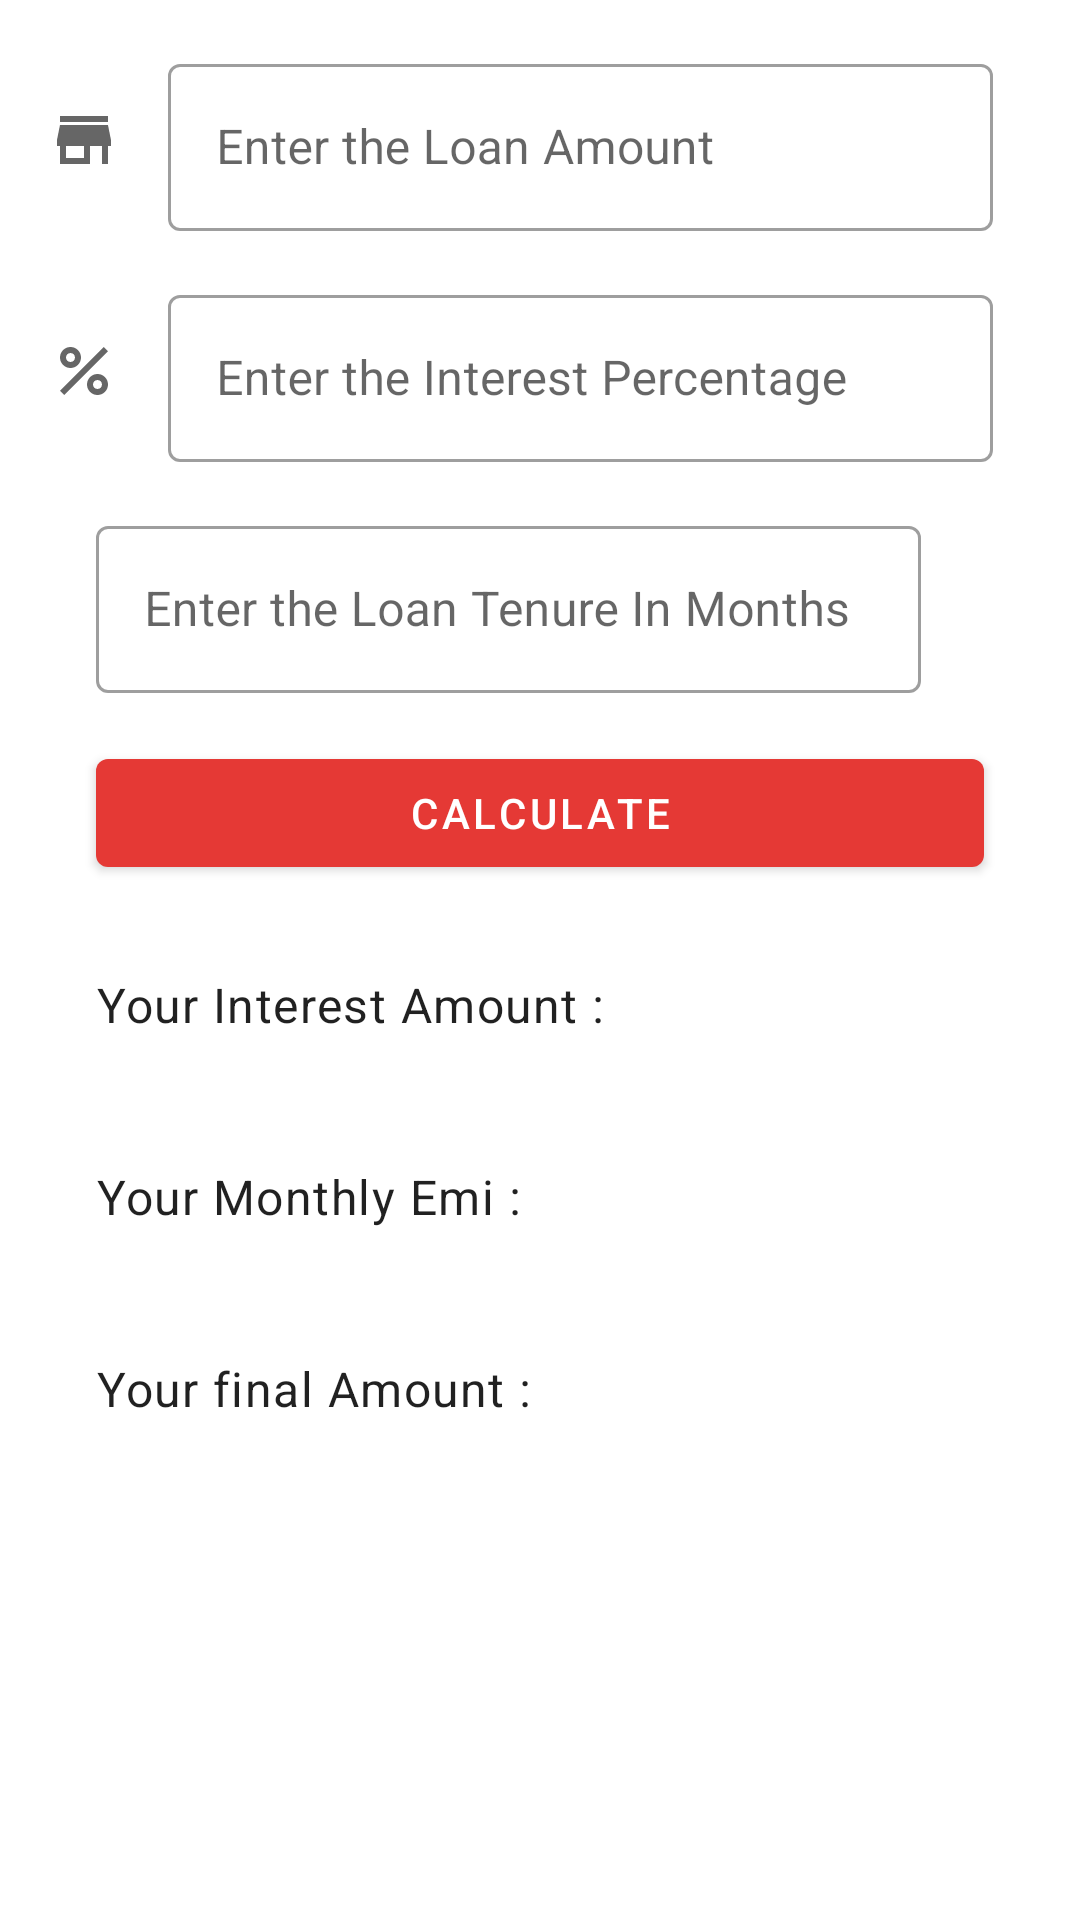

Named icons in this screenshot (1080*1920) and their bounding boxes, {"x1": x1, "y1": y1, "x2": x2, "y2": y2}:
store: {"x1": 57, "y1": 116, "x2": 111, "y2": 164}
